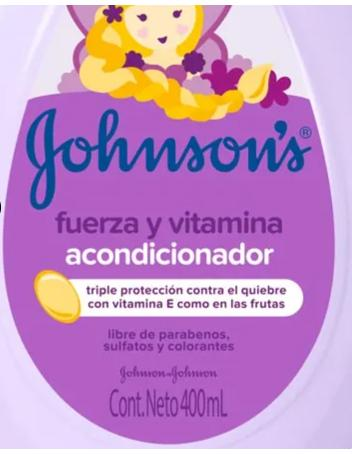brand: (11, 103, 341, 211)
extra_detail: (51, 211, 286, 236)
net_weight: (178, 379, 231, 423)
product_name: (59, 238, 291, 273)
